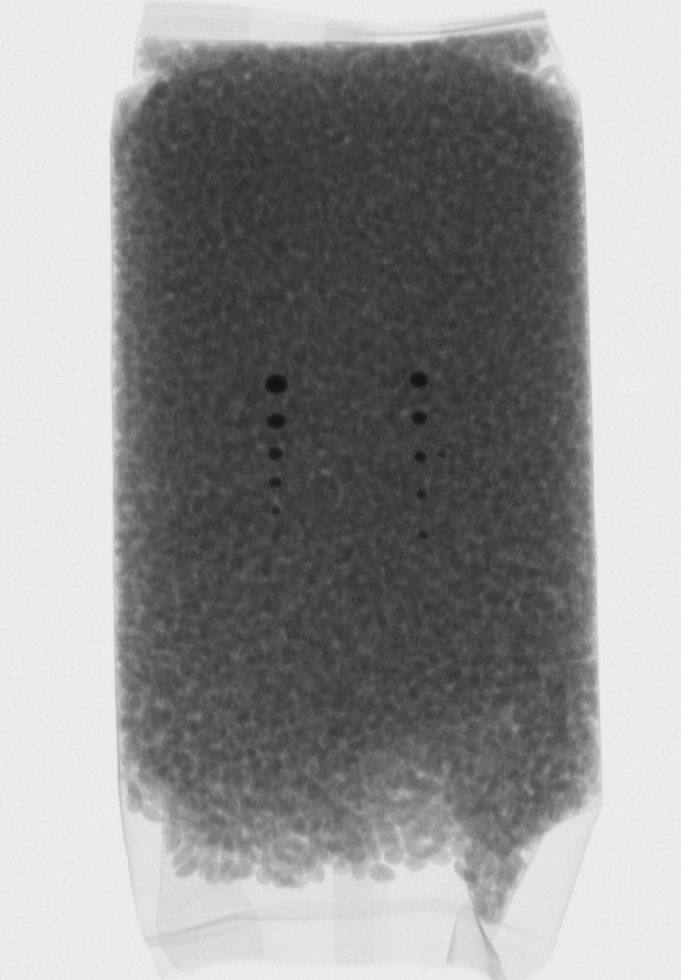glass: (264, 371, 288, 393), (408, 369, 430, 388), (266, 412, 285, 429), (410, 408, 428, 425), (268, 445, 286, 461), (415, 449, 429, 465), (268, 474, 281, 491), (415, 487, 429, 502), (418, 529, 431, 542), (271, 503, 284, 515)
glass_area: (399, 356, 445, 556), (255, 356, 296, 531)
